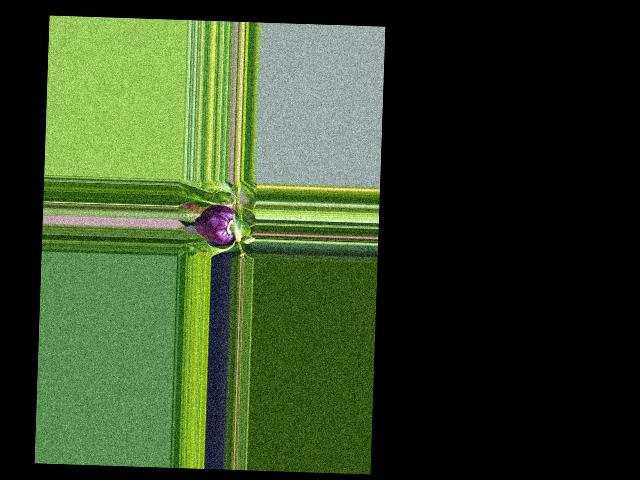bell_pepper: (192, 203, 240, 244)
